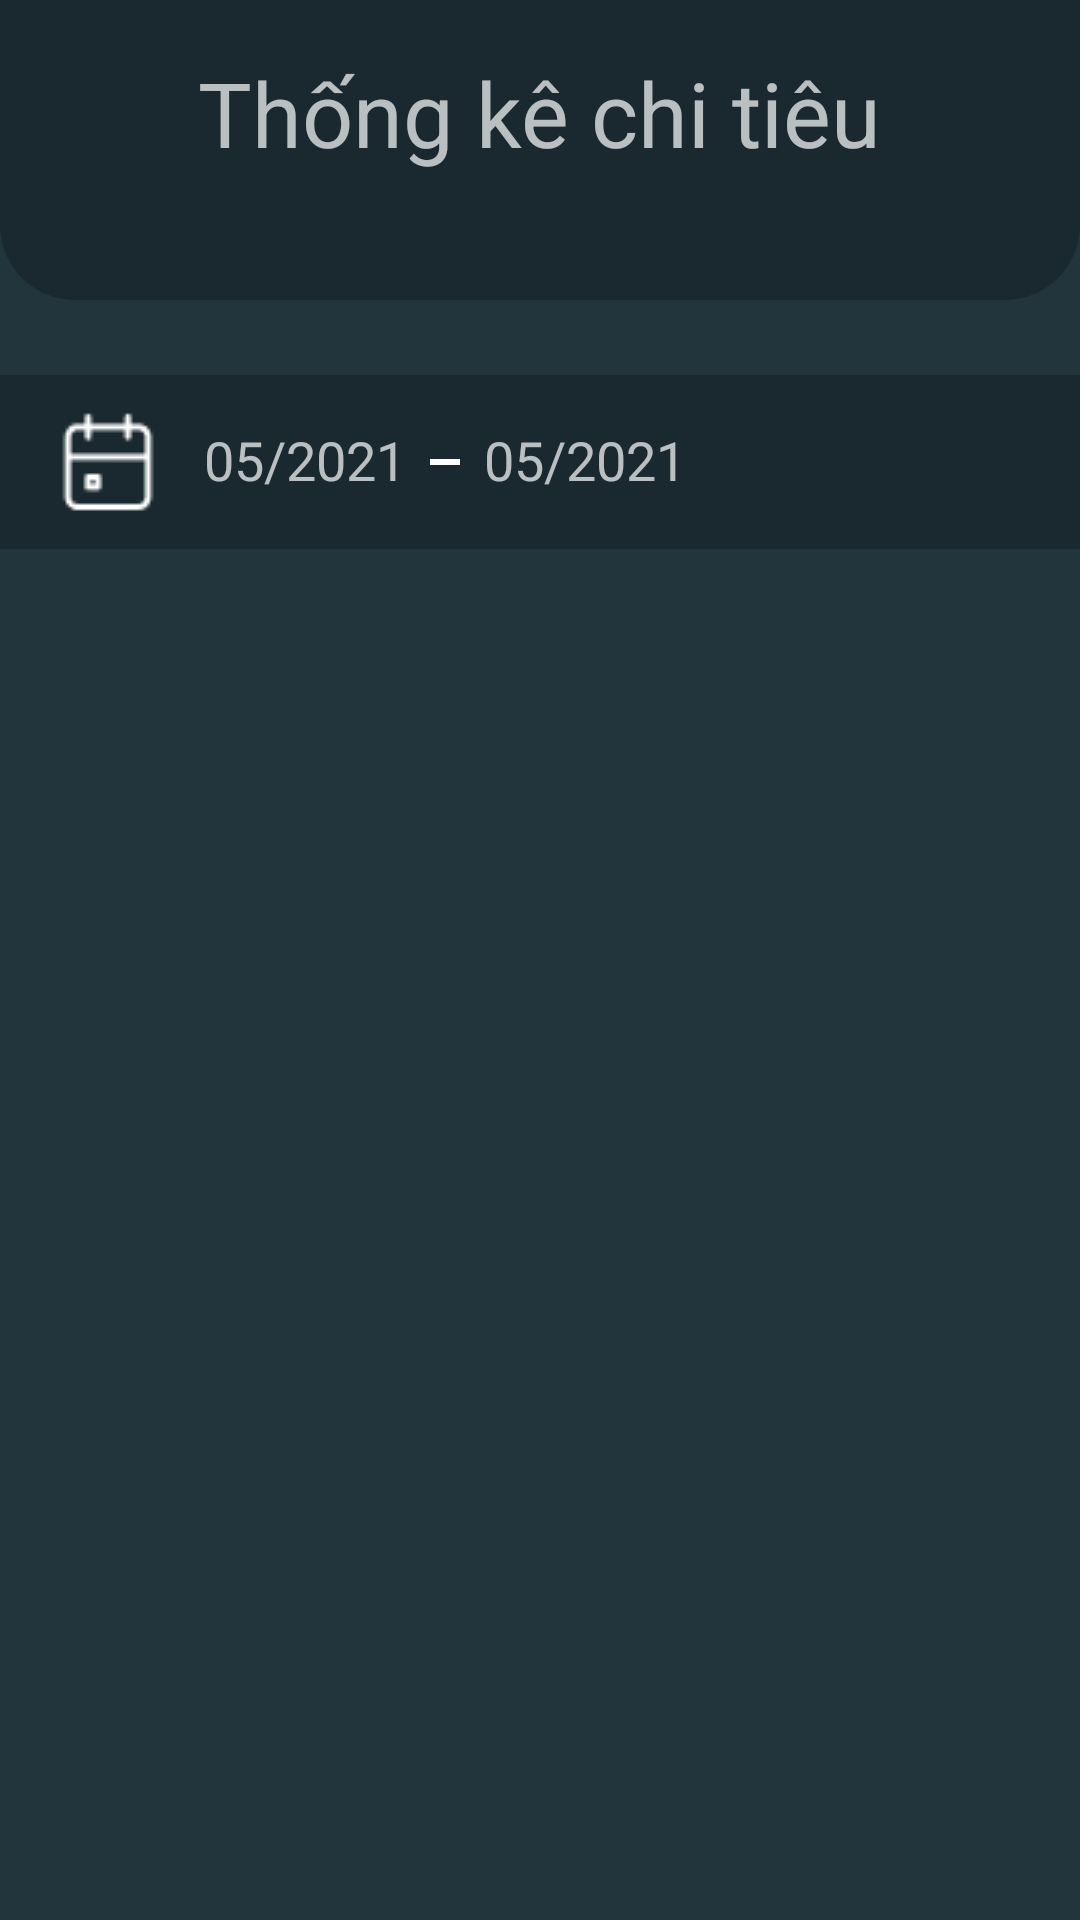

Where icons sit on this 1080px×1920px app screen, as (x1, y1, x2, y2):
calendar: (62, 413, 154, 511)
